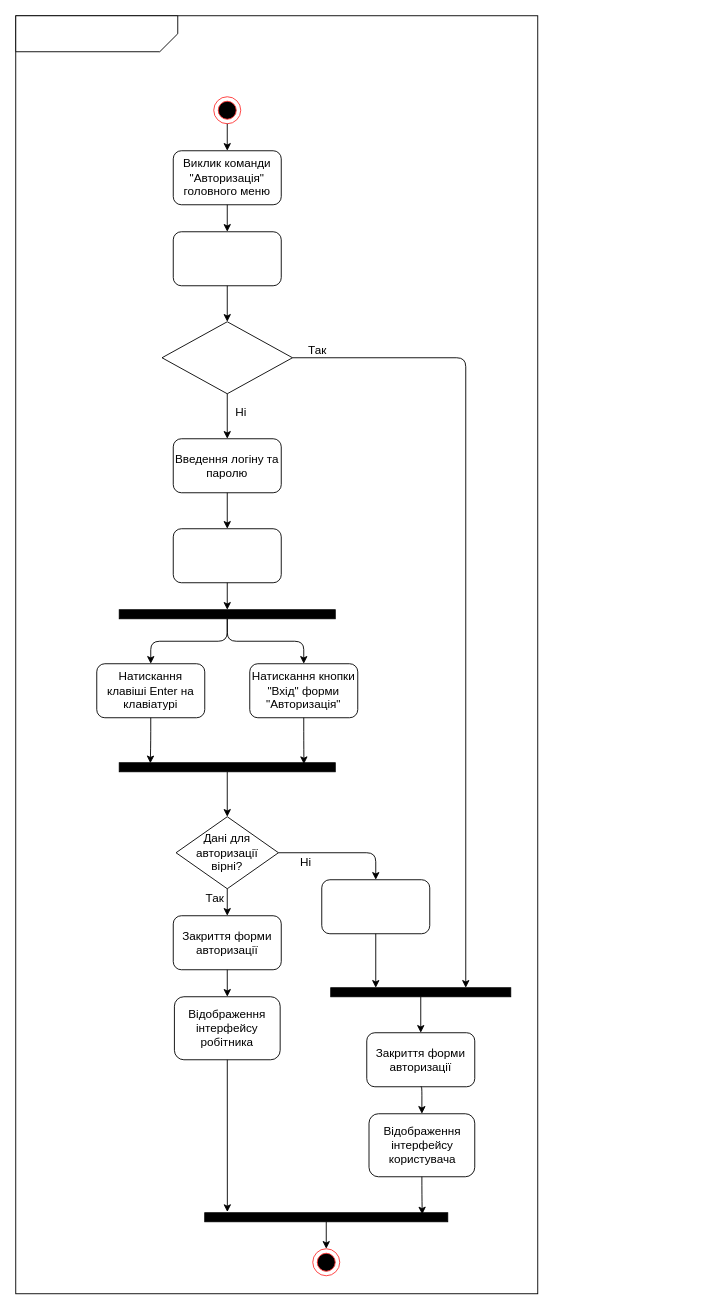
Some shapes in this 716 by 1310 pixel diagram are drawn without their labels. The box of each missing label's shape, as (x1, y1, x2, y2) in pixels:
Activity Diagram UC01: (15, 15, 178, 52)
Виведення повідомлення про невірні дані: (321, 879, 430, 934)
Відкриття форми "Авторизація": (172, 231, 281, 286)
Запуск перевірки: (172, 528, 281, 583)
Натиснута кнопка "Скасувати?: (161, 321, 292, 394)
